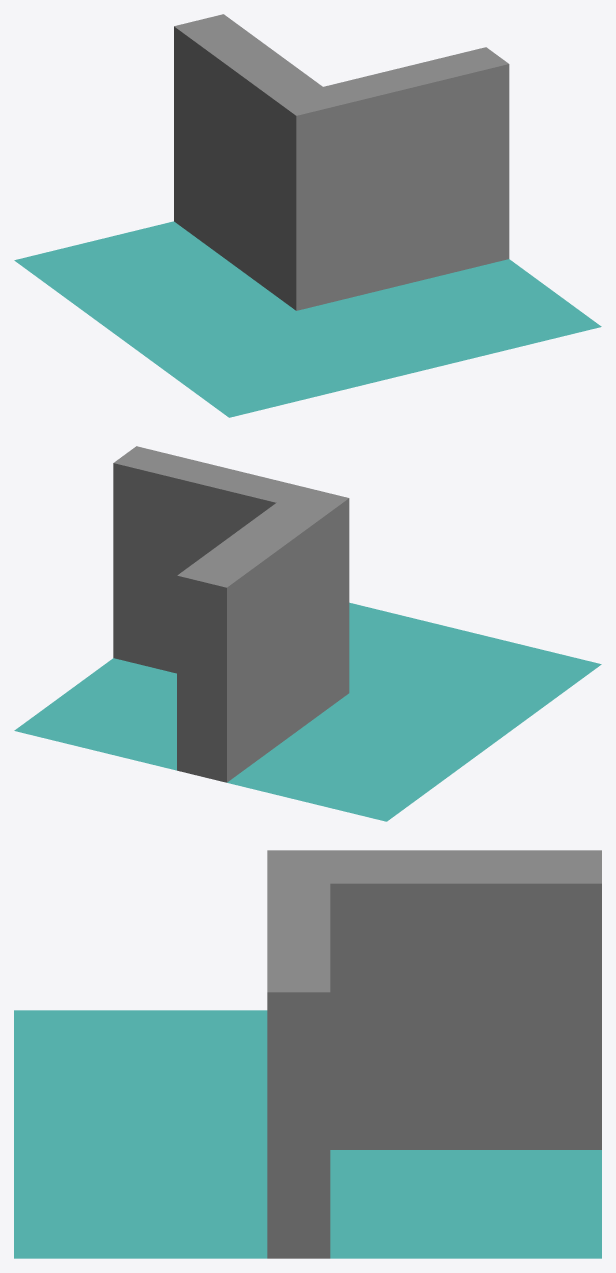
The model's file is SM_Muur_Floor.fbx.
3 views of the same model, one above another, from view 1: azimuth 30°, elevation 25°; view 2: azimuth 150°, elevation 25°; view 3: azimuth 270°, elevation 25° (orthographic). The views are drawn at different scales.
Parts seen in each view (by area): view 1: SM_Muur_Floor; view 2: SM_Muur_Floor; view 3: SM_Muur_Floor.
Part boxes in pixels (x1,y1,x2,y2): SM_Muur_Floor: [14, 14, 601, 417]; SM_Muur_Floor: [14, 446, 601, 821]; SM_Muur_Floor: [14, 850, 601, 1258].
Bounding box in the file's own units: 500 × 250 × 500.
1 material, 1 textured.
